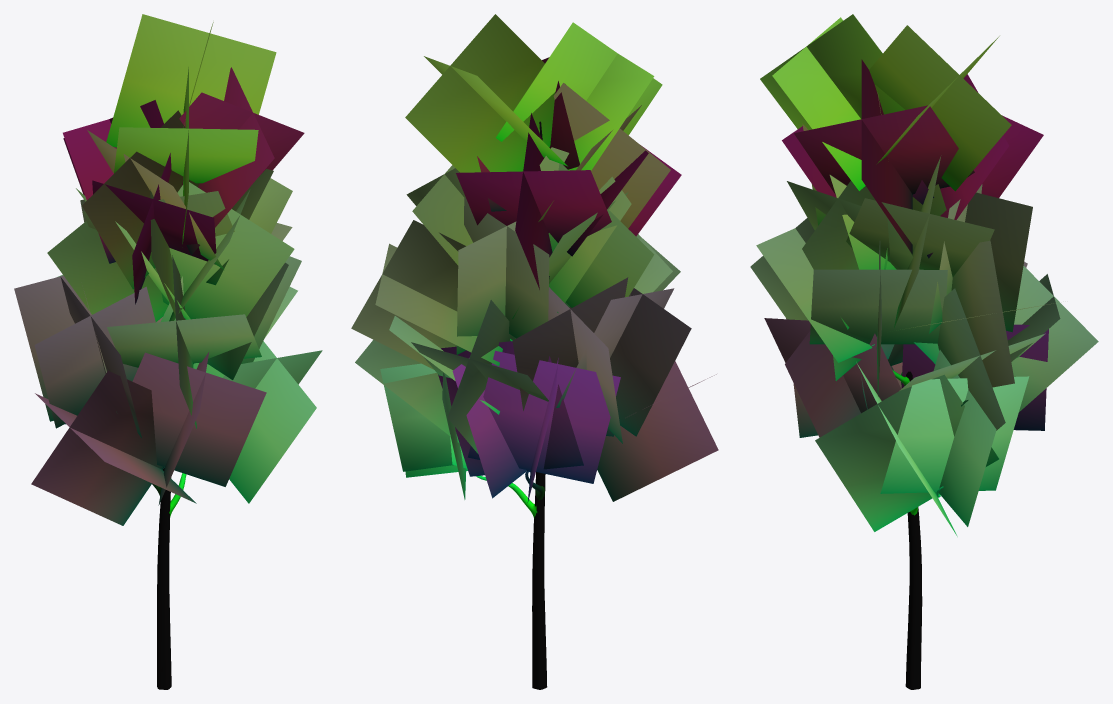
Rendered from URP_P12_Tree_14_LOD_1.fbx.
3 renders of one model, left to right at view 1: azimuth 30°, elevation 25°; view 2: azimuth 150°, elevation 25°; view 3: azimuth 270°, elevation 25°, orthographic. The views are drawn at different scales.
Parts seen in each view (by area): view 1: Tree_14_LOD_1; view 2: Tree_14_LOD_1; view 3: Tree_14_LOD_1.
Boxes of the visible parts, left/top/right/bottom form: Tree_14_LOD_1: left=14, top=14, right=322, bottom=689; Tree_14_LOD_1: left=351, top=14, right=718, bottom=689; Tree_14_LOD_1: left=750, top=14, right=1098, bottom=689.
Bounding box in the file's own units: 172 × 352 × 162.
